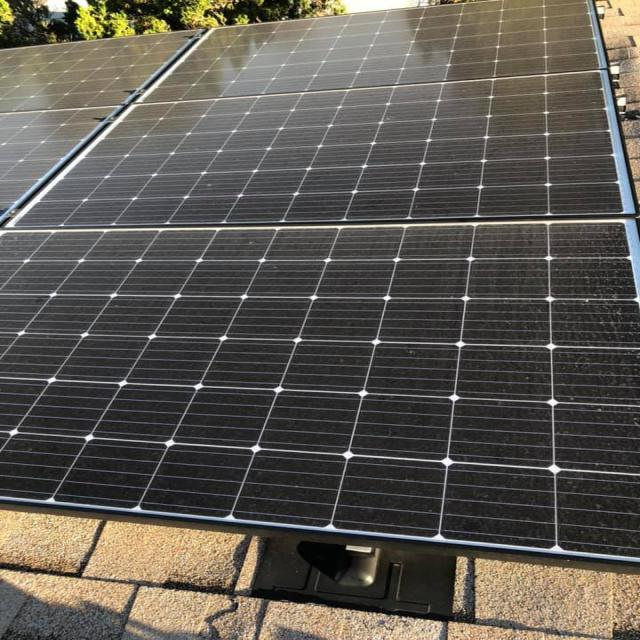dust-solar-panel: (0, 0, 638, 568)
